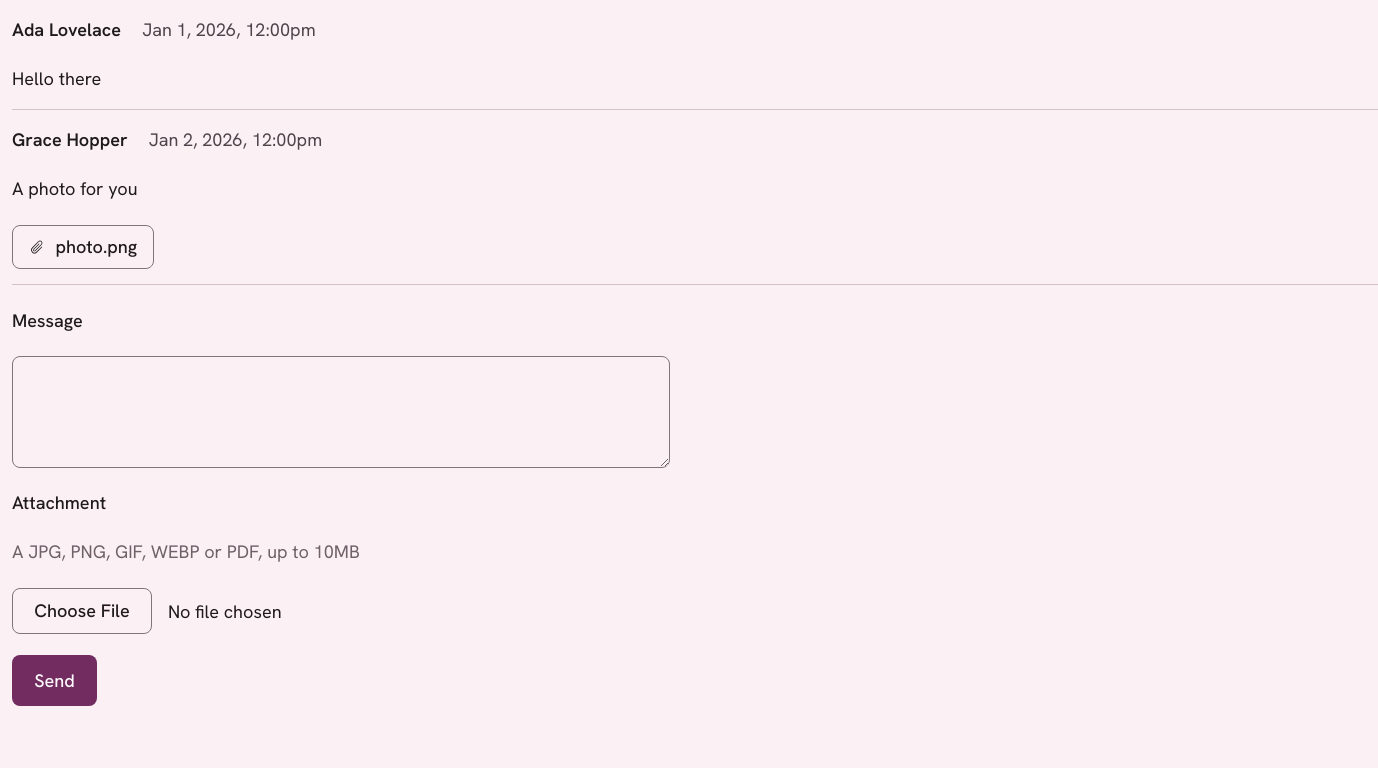
Test: MessageThread.svelte compose form › refuses an empty compose form against the message before sending
Click the button "Send" at [54, 681], box [12,655,97,706]
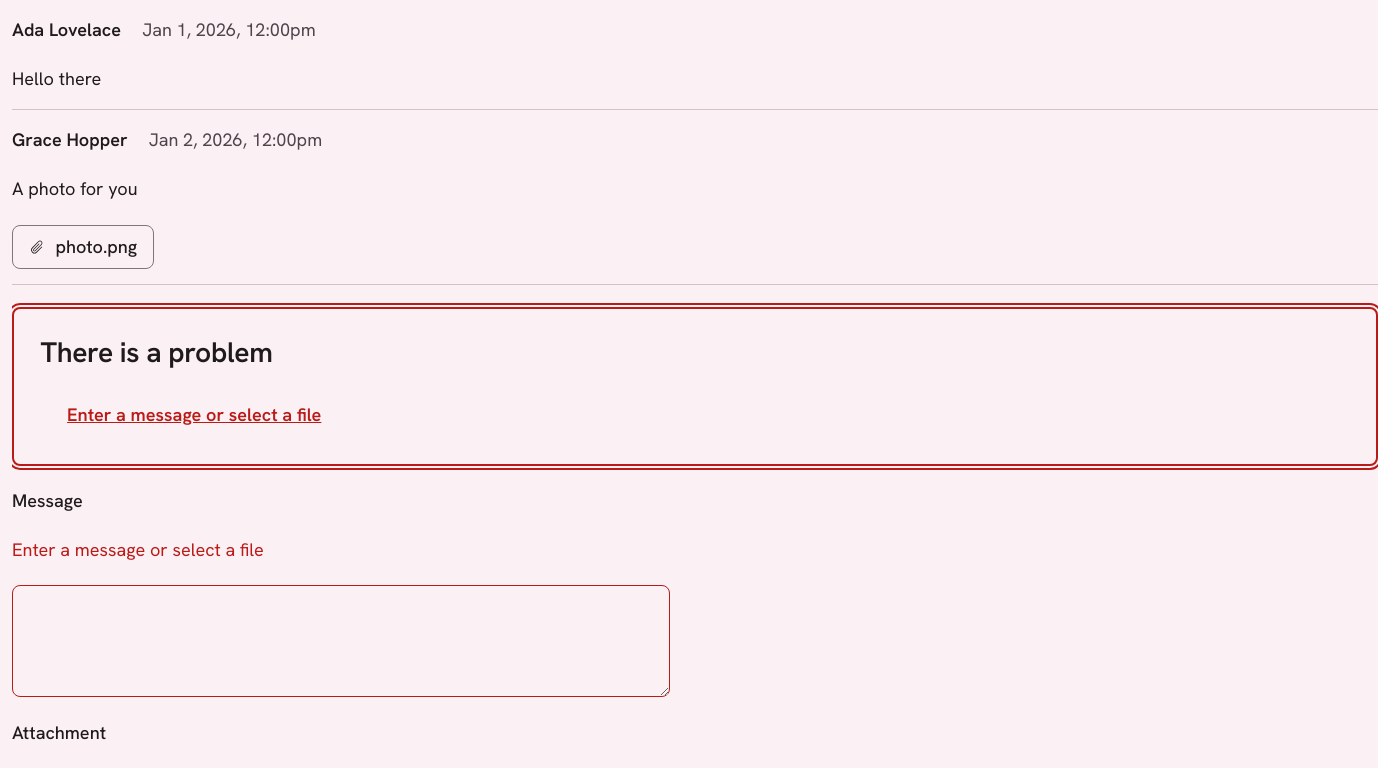
Check: the link "Enter a message or select a file" is shown, box [67,403,321,426]
